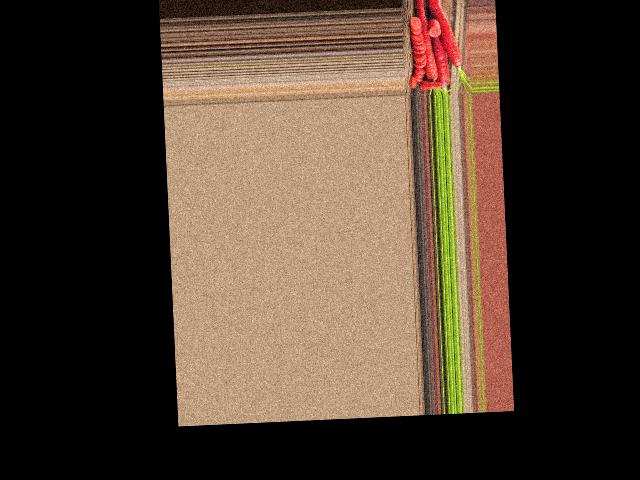carrot: (415, 5, 441, 86)
